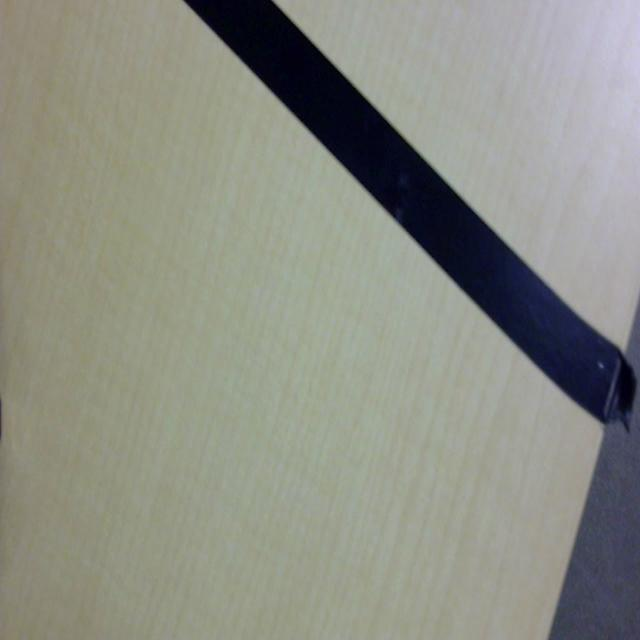tape: (132, 0, 640, 460)
